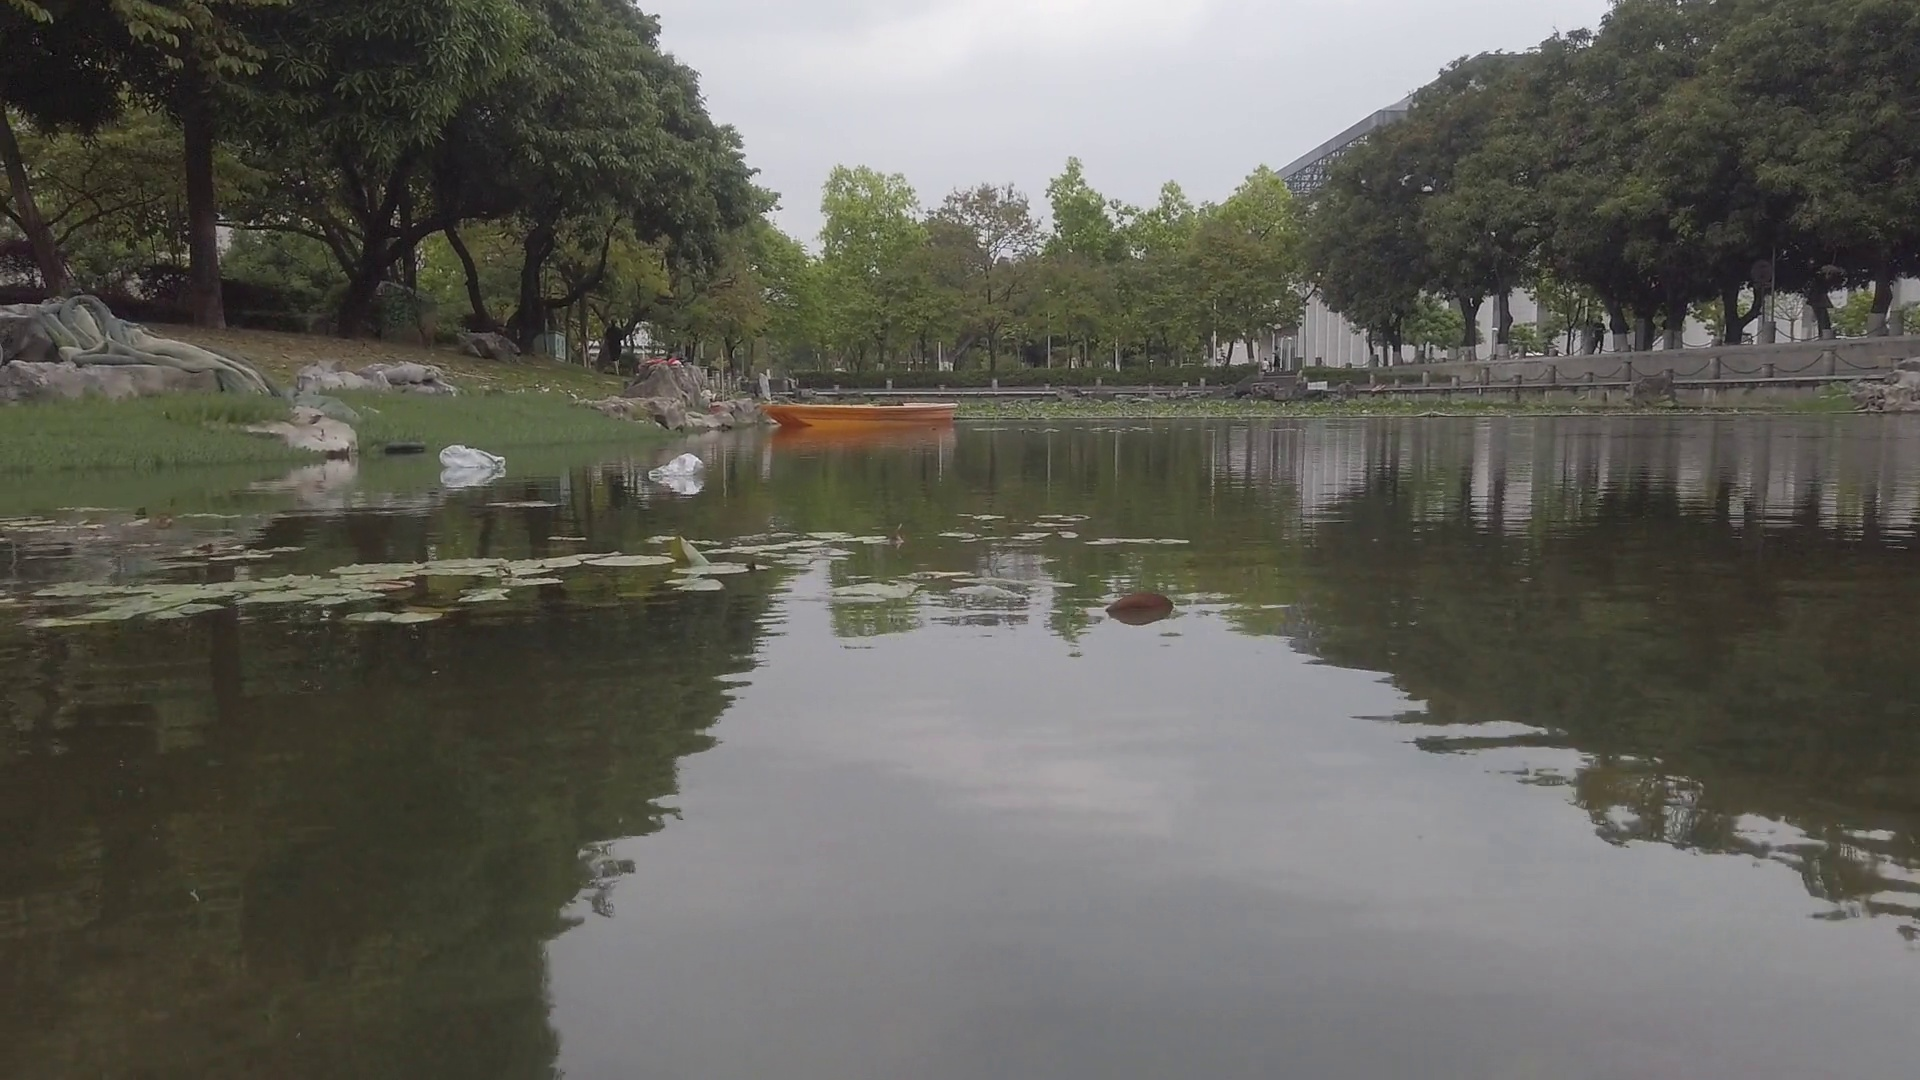paper: (483, 489, 559, 513)
plastic: (646, 458, 707, 481), (442, 448, 506, 469)
